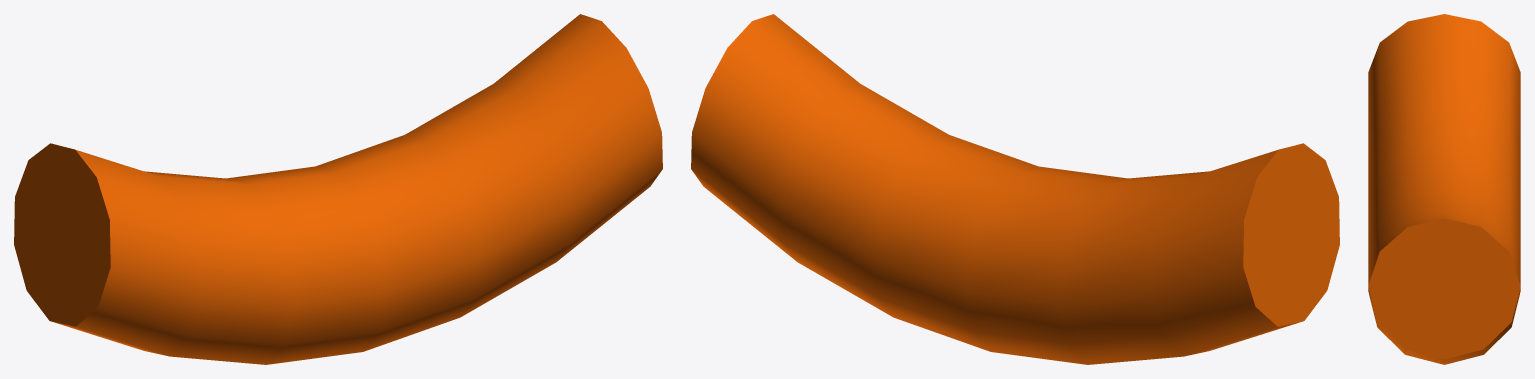
Rendered from RingElement1.fbx.
3 renders of one model, left to right at view 1: azimuth 30°, elevation 25°; view 2: azimuth 150°, elevation 25°; view 3: azimuth 270°, elevation 25°, orthographic. The views are drawn at different scales.
Visible parts, largest first — view 1: Torus.001; view 2: Torus.001; view 3: Torus.001.
Boxes of the visible parts, left/top/right/bottom form: Torus.001: left=14, top=14, right=662, bottom=364; Torus.001: left=691, top=14, right=1339, bottom=364; Torus.001: left=1368, top=14, right=1520, bottom=364.
Bounding box in the file's own units: 64.67 × 27.9 × 18.57.
